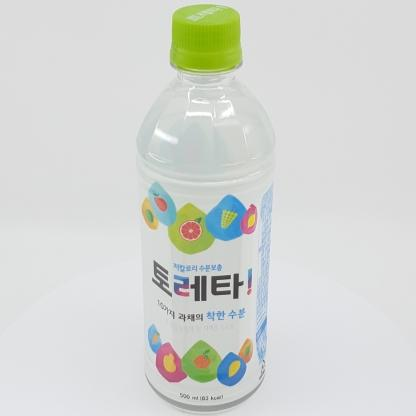-----500ML: (136, 4, 276, 414)
